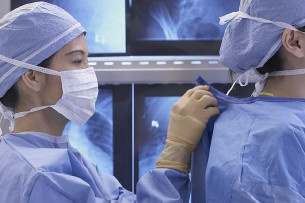Mask: (37, 42, 121, 126)
